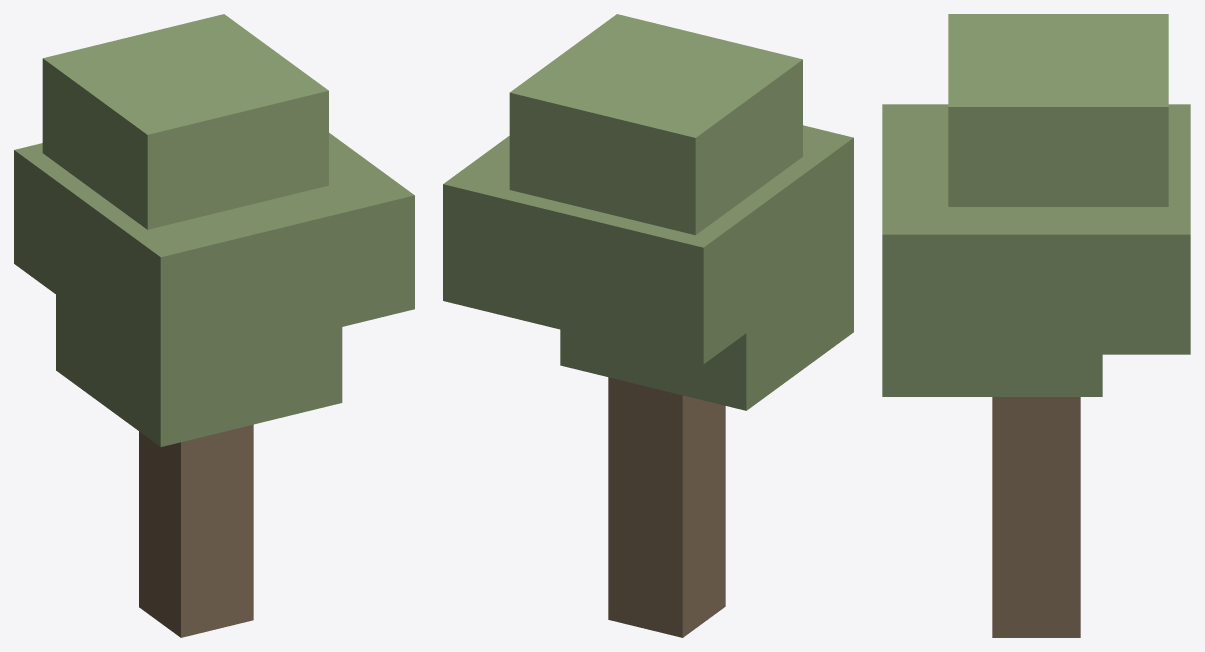
Rendered from avellano_05.glb.
3 renders of one model, left to right at view 1: azimuth 30°, elevation 25°; view 2: azimuth 150°, elevation 25°; view 3: azimuth 270°, elevation 25°, orthographic. The views are drawn at different scales.
Visible parts, largest first — view 1: avellano_05; view 2: avellano_05; view 3: avellano_05.
Part boxes in pixels (x1=…): avellano_05: x1=14, y1=14, x2=414, y2=637; avellano_05: x1=443, y1=14, x2=853, y2=637; avellano_05: x1=882, y1=14, x2=1190, y2=637.
Size of the model in its own units: 1.4 by 2.8 by 1.4.
